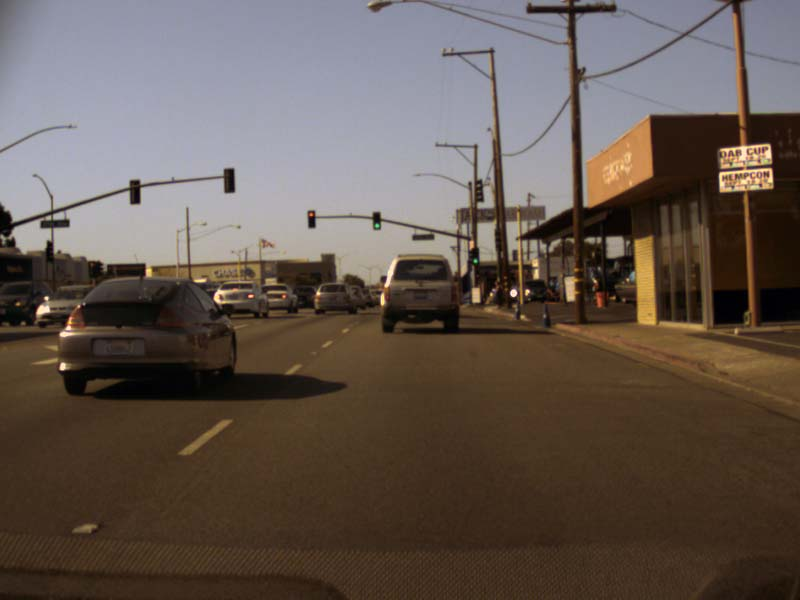Green: (372, 211, 381, 230), (472, 248, 478, 265)
Red: (307, 210, 316, 227), (87, 262, 95, 277)
